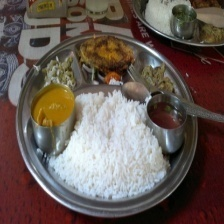rice: (75, 97, 167, 197)
